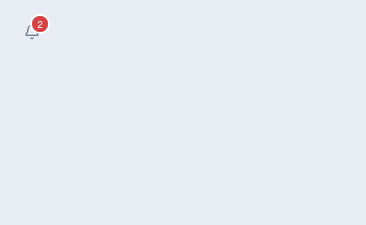
Test: NotificationCenter › loads and lists notifications when opened
Click the button named "notificações" at (32, 32), box [12,12,52,52]
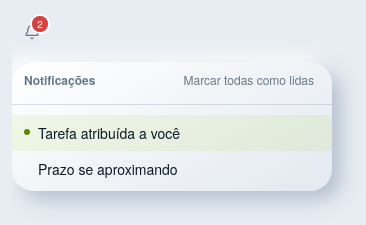
expect the text "Tarefa atribuída a você" is shown: met, box [38,123,180,143]
expect the text "Prazo se aproximando" is shown: met, box [38,159,178,179]
